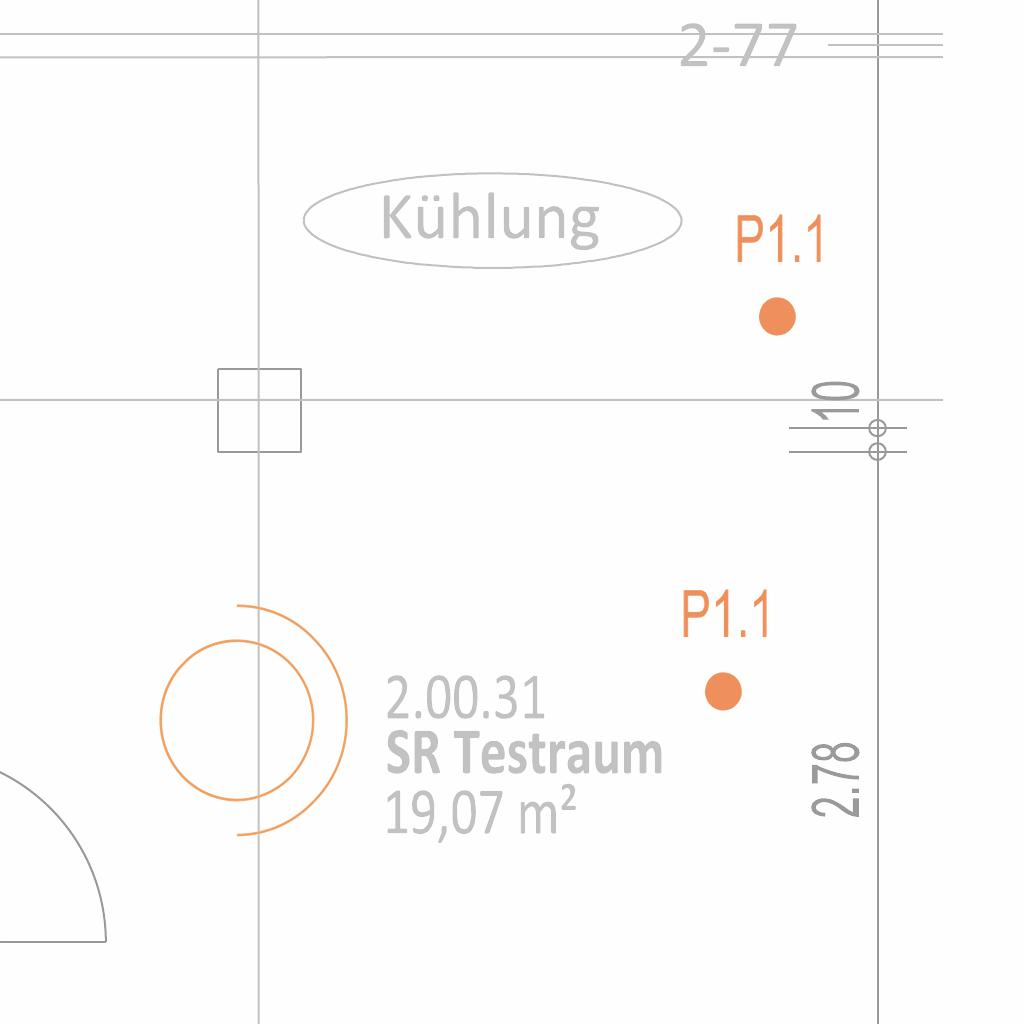Downlight_LED_Einbauleuchten_Flur: (734, 211, 827, 339), (680, 586, 773, 714)
Scheinwerfer_fuer_Alarmbeleuchtung: (134, 582, 359, 846)
